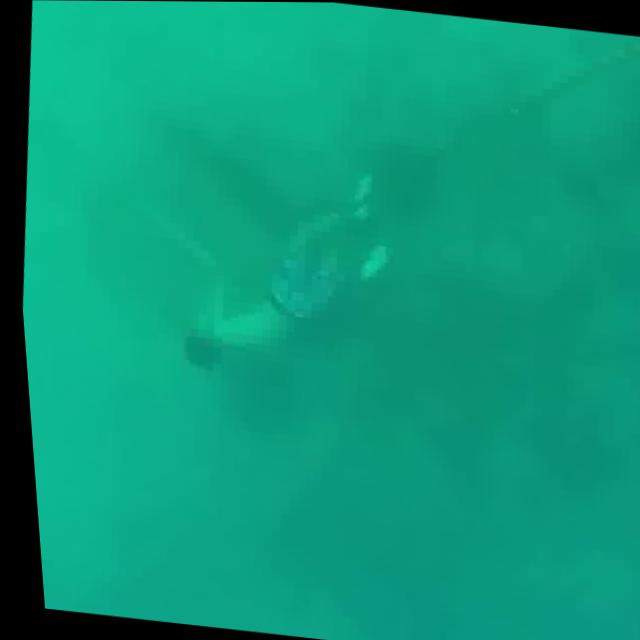human: (138, 140, 410, 400)
